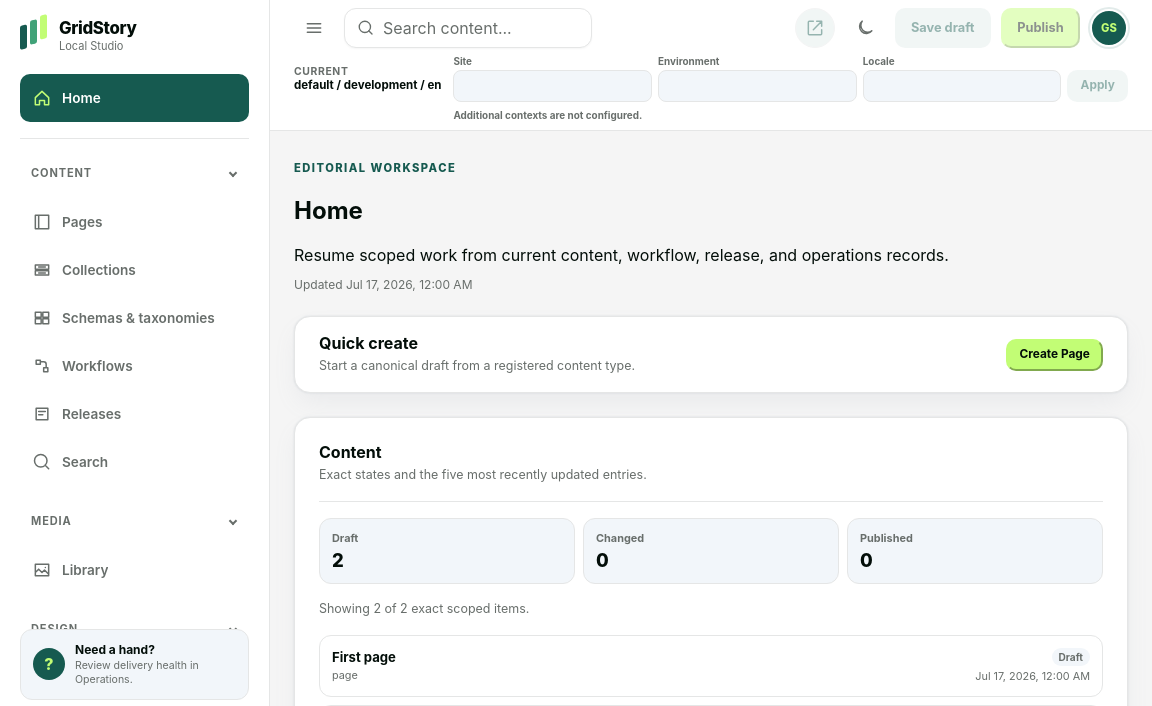
Test: GridStory Studio › delegates Home quick create to the canonical registered-schema authoring path
Click the button "Create Page". click: click(1055, 355)
box: [1006,339,1103,371]
(page scrolled)
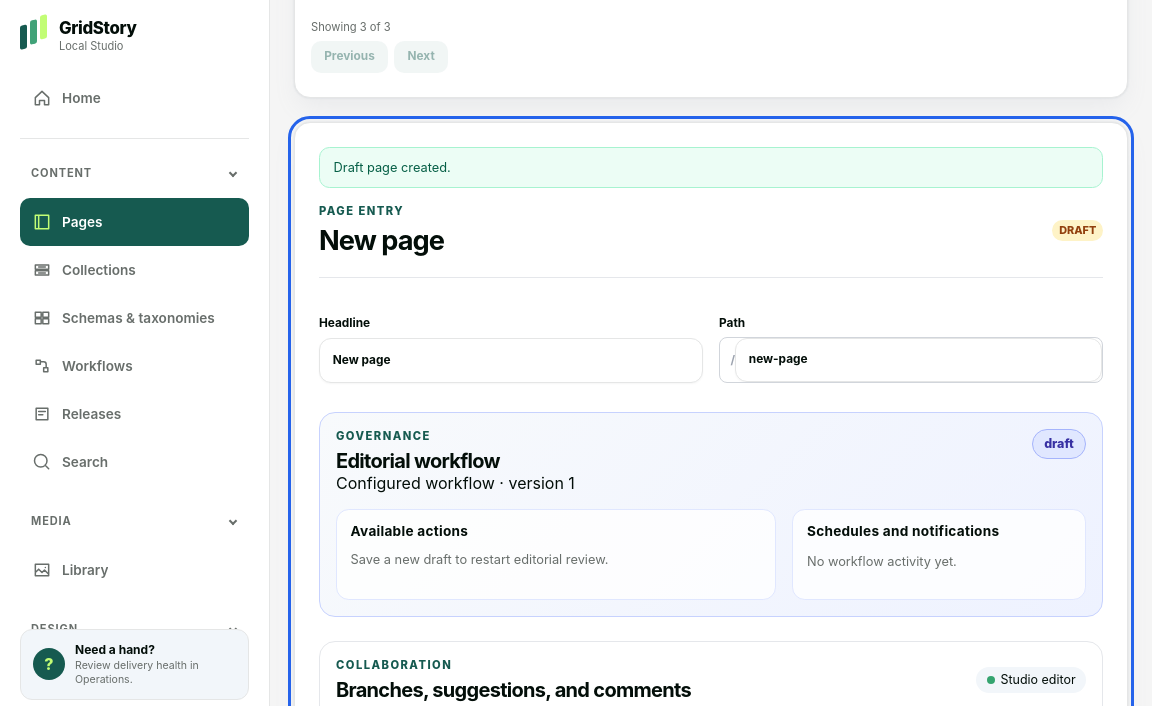
Expected: the field labelled "Headline" is shown, [319,338,703,383]
